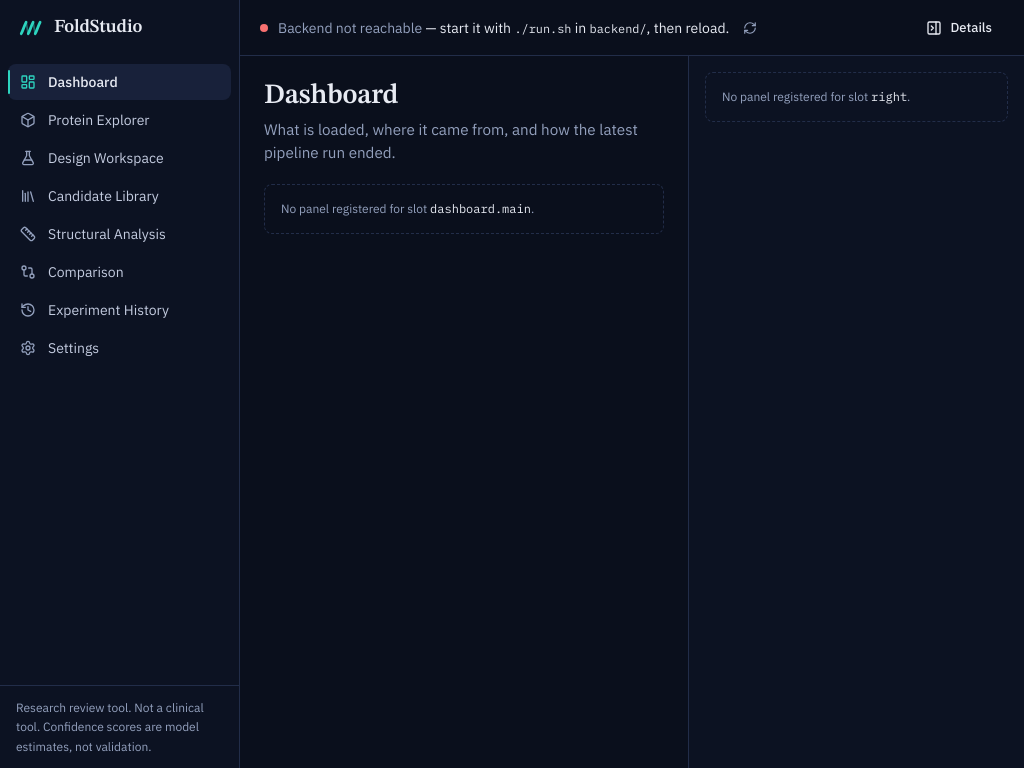
Test: backend status in the shell › says how to start the backend when it does not answer, and recovers on reload
Expected: the text "Backend not reachable" shows "start it with ./run.sh in backend/, then reload.", [278,18,729,38]
Click the button named "Reload structures and experiments". click: (750, 28)
box: [739,16,761,38]
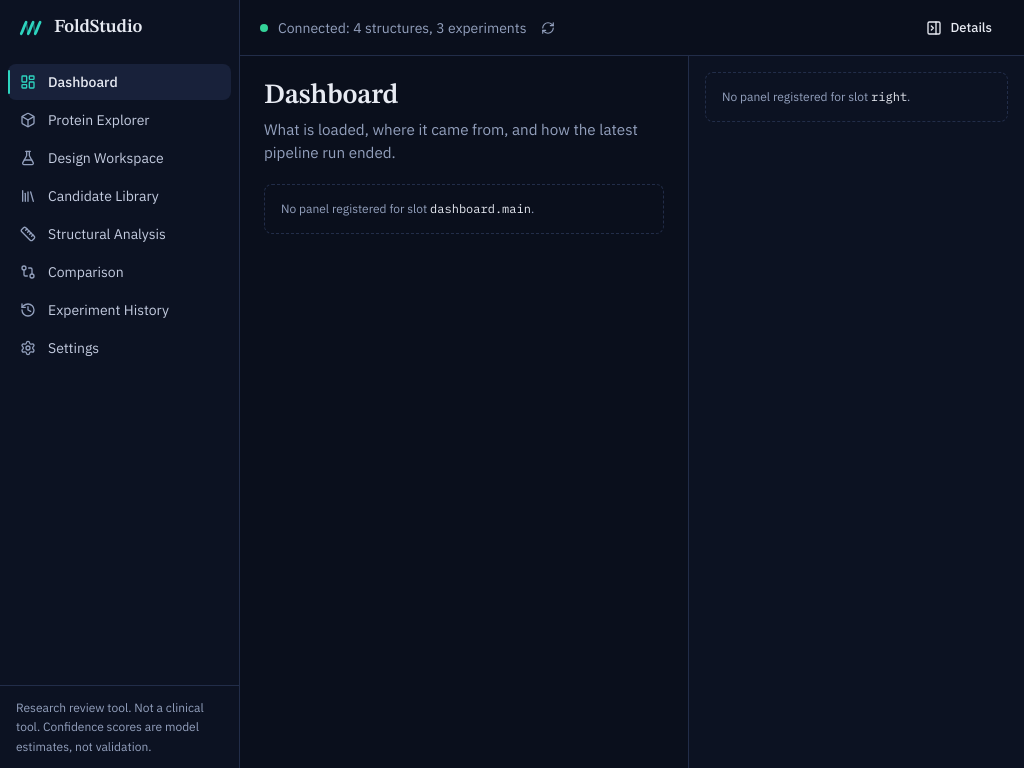
Now the text "Connected: 4 structures, 3 experiments" is shown, box [278,18,526,38]
